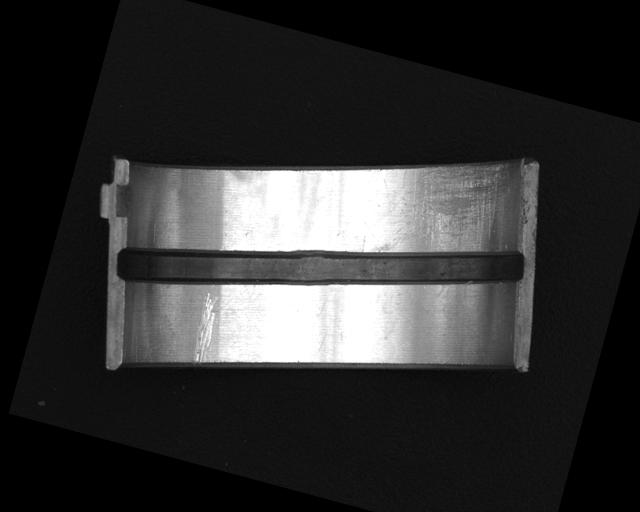gap: (111, 151, 527, 380)
nick: (186, 290, 224, 368)
scratch: (373, 135, 517, 281)
